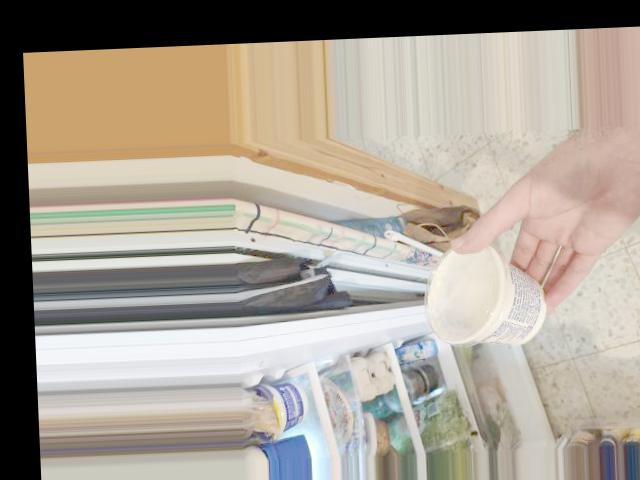cotage: (422, 242, 550, 339)
